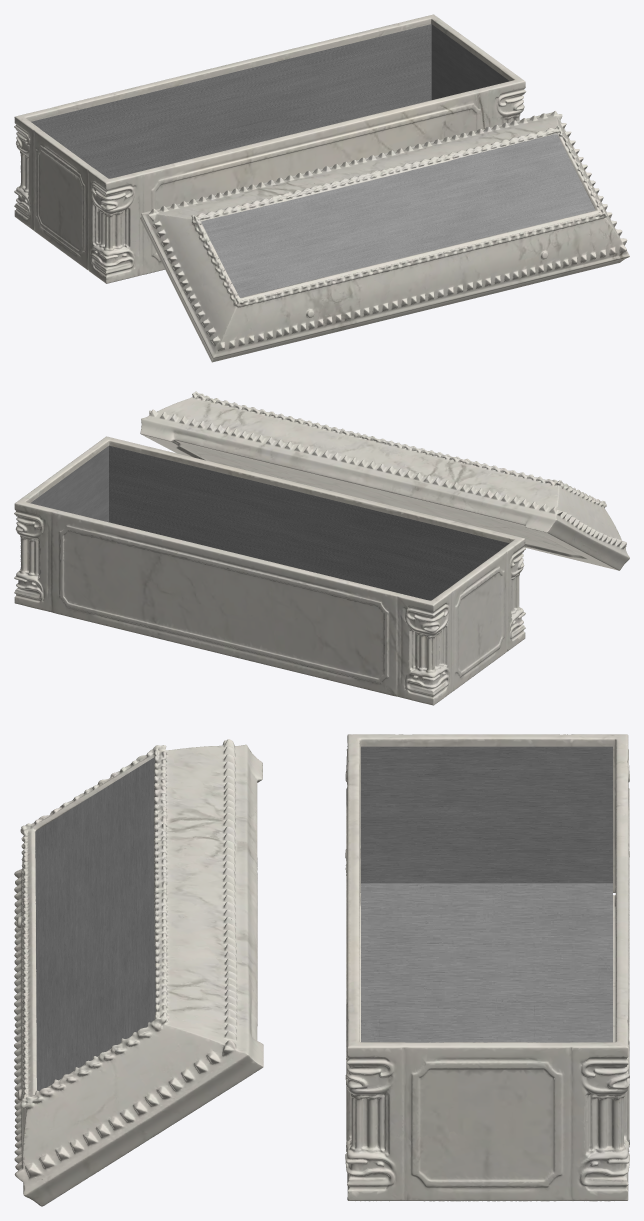
The model's file is Coffin-transformed.glb.
The picture shows the model from 3 angles, top to bottom: view 1: azimuth 30°, elevation 25°; view 2: azimuth 150°, elevation 25°; view 3: azimuth 270°, elevation 25°; orthographic projection. The views are drawn at different scales.
Parts seen in each view (by area): view 1: Coffin, Metal_Inside, Metal; view 2: Coffin, Metal_Inside; view 3: Coffin, Metal_Inside, Metal.
Part boxes in pixels (x1,y1,x2,y2): Coffin: [14, 14, 629, 362]; Metal_Inside: [31, 24, 509, 178]; Metal: [201, 134, 595, 297]; Coffin: [14, 391, 629, 705]; Metal_Inside: [30, 445, 509, 600]; Coffin: [14, 734, 629, 1206]; Metal_Inside: [361, 746, 612, 1042]; Metal: [35, 757, 155, 1090].
Size of the model in its own units: 1.9 by 0.4881 by 1.57.
Materials: 3 (3 with a texture image).
